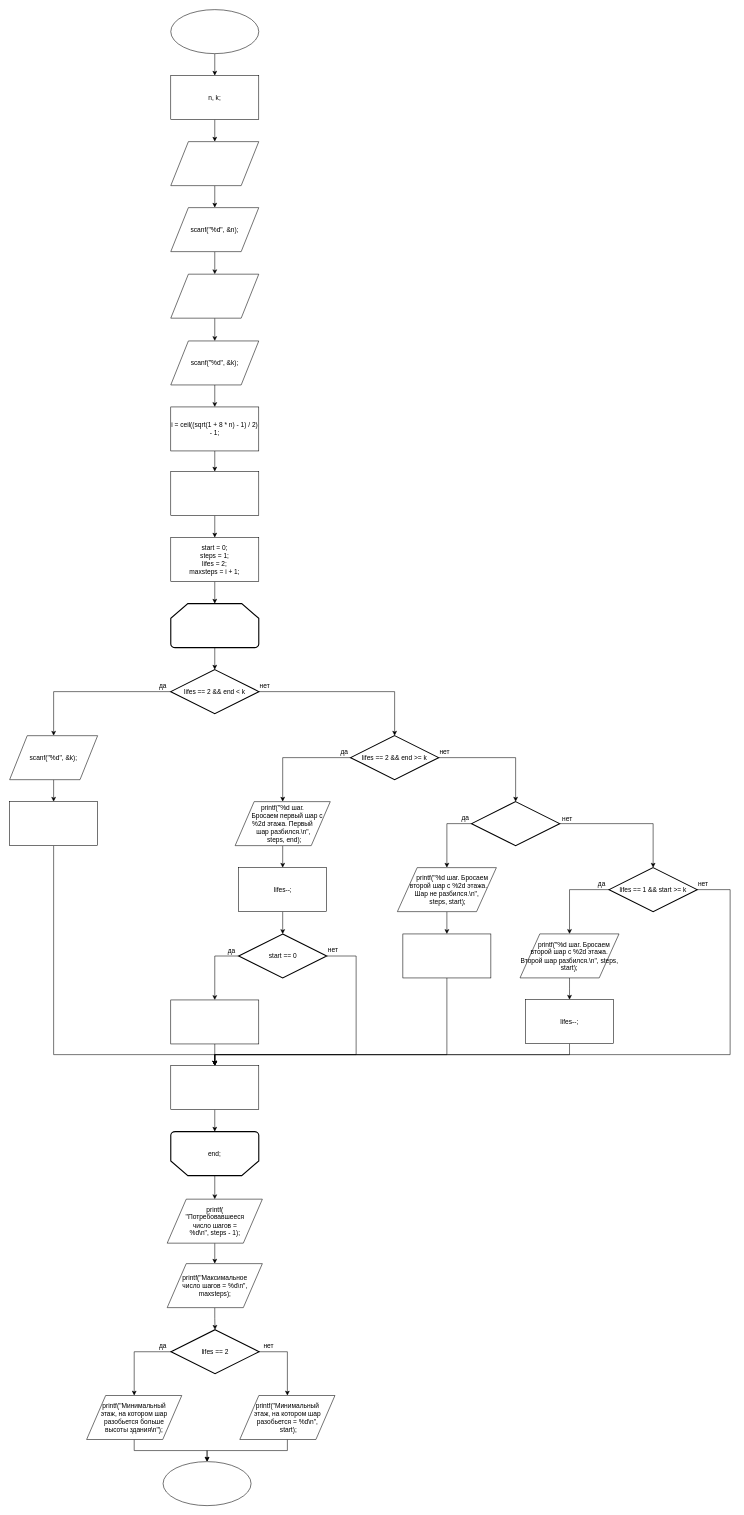
Image size: 744x1515. Some labels were removed from this diagram. Here are the shapes that lost their labels. From the top down, the centre of each, then its label:
(214,31): начало
(214,163): printf("Введите количество этажей в здании: ");
(214,296): printf("Введите минимальный этаж:");
(214,493): end = n - i * (i + 1) / 2;
(214,625): i >= 0 && lifes > 0 && start <= end
(53,823): start = end + 1; end += i;
(515,823): lifes == 1 && start < k
(446,955): start++;
(214,1021): start = 1; end--;
(214,1087): i--; steps++;
(207,1483): конец
